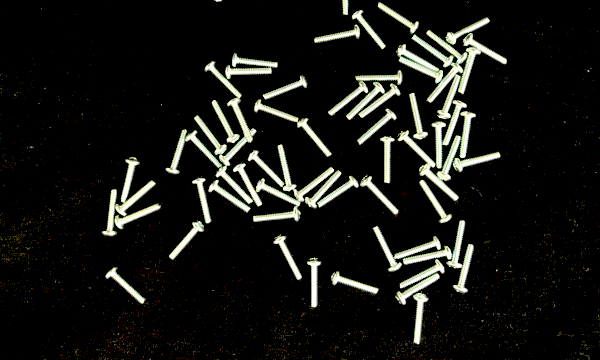longscrew: (355, 108, 399, 148), (116, 177, 158, 218), (359, 175, 401, 216), (395, 129, 438, 169), (103, 266, 147, 305), (345, 81, 386, 122), (425, 62, 465, 104), (167, 218, 206, 261), (359, 83, 403, 121), (418, 178, 453, 225), (214, 166, 255, 206), (184, 131, 226, 170), (418, 164, 461, 202), (294, 165, 337, 203), (327, 80, 370, 118), (410, 32, 455, 68), (219, 127, 259, 167), (305, 169, 344, 210), (395, 272, 442, 306), (202, 61, 244, 99), (371, 225, 404, 273), (316, 173, 360, 209), (425, 29, 469, 65), (376, 0, 421, 35), (114, 200, 163, 232), (272, 233, 304, 282), (295, 118, 334, 158), (351, 9, 388, 51), (462, 33, 509, 66), (208, 179, 252, 214), (192, 115, 229, 156), (398, 259, 446, 290), (248, 150, 287, 188), (233, 162, 265, 208), (210, 98, 241, 145), (446, 15, 493, 46), (255, 179, 304, 208), (395, 44, 443, 73), (226, 97, 255, 144), (441, 99, 468, 148), (394, 235, 443, 261), (457, 46, 483, 95), (452, 241, 476, 294), (436, 74, 463, 121), (330, 270, 380, 295), (437, 134, 463, 182), (397, 57, 445, 83), (262, 74, 309, 100), (165, 127, 189, 177), (453, 149, 503, 173), (445, 219, 468, 270), (253, 99, 301, 123), (191, 175, 214, 225), (119, 156, 142, 205), (403, 245, 453, 267), (276, 143, 298, 193), (312, 24, 362, 46), (407, 91, 429, 141), (411, 292, 431, 346), (252, 205, 302, 225), (458, 109, 478, 159), (101, 186, 119, 240), (306, 256, 323, 309), (355, 69, 405, 87), (380, 133, 397, 185), (224, 63, 276, 79), (432, 120, 448, 172), (229, 52, 280, 68), (336, 0, 353, 18), (204, 0, 227, 4)
